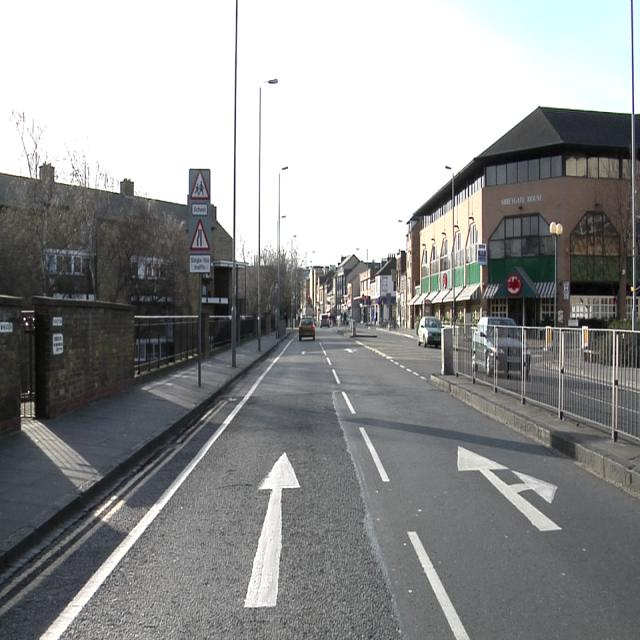Building: (409, 107, 633, 327), (307, 252, 400, 327), (304, 264, 337, 322)
Car: (475, 317, 519, 376), (418, 317, 441, 346), (299, 317, 315, 339), (320, 317, 329, 327)
Road: (1, 328, 636, 606)
Tree: (68, 150, 195, 315), (0, 110, 51, 297), (7, 105, 114, 190), (282, 235, 303, 315), (261, 240, 277, 311)
